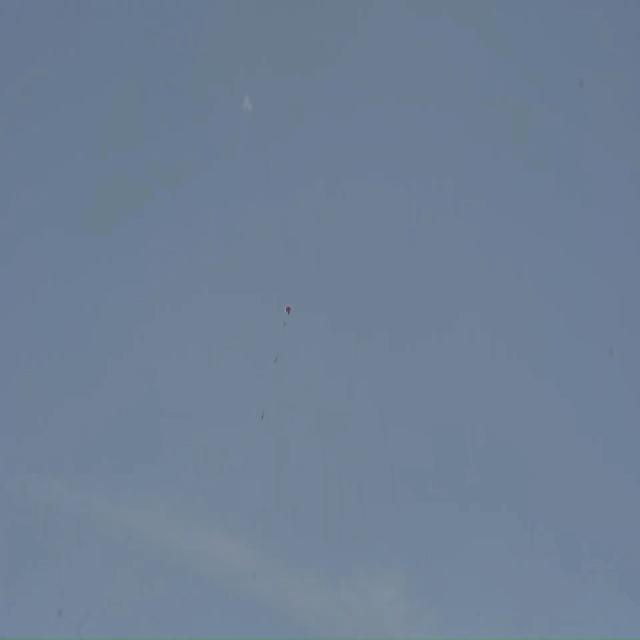Rocket: (261, 411, 265, 419)
